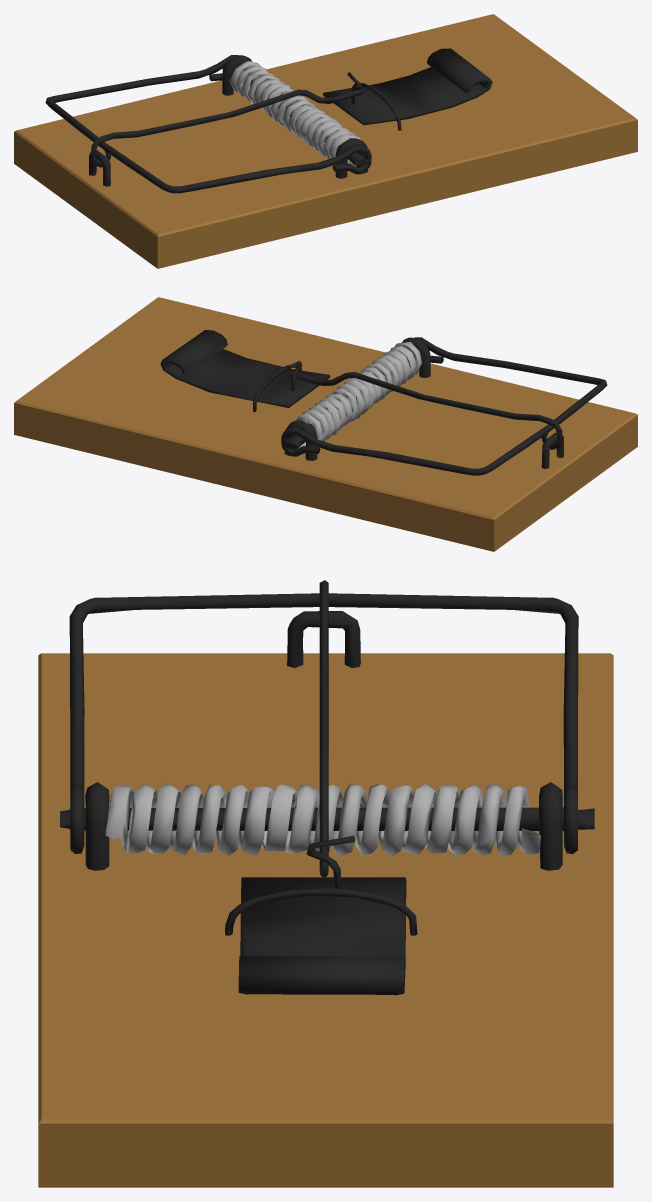
Rendered from mouse trap f.fbx.
3 views of the same model, one above another, from view 1: azimuth 30°, elevation 25°; view 2: azimuth 150°, elevation 25°; view 3: azimuth 270°, elevation 25° (orthographic). The views are drawn at different scales.
Visible parts, largest first — view 1: defaultMaterial.003; view 2: defaultMaterial.003; view 3: defaultMaterial.003.
Boxes of the visible parts, x1,y1,x2,y2 form: defaultMaterial.003: (14, 14, 637, 268); defaultMaterial.003: (14, 297, 637, 551); defaultMaterial.003: (38, 580, 613, 1187).
Size of the model in its own units: 200 by 30.84 by 104.
